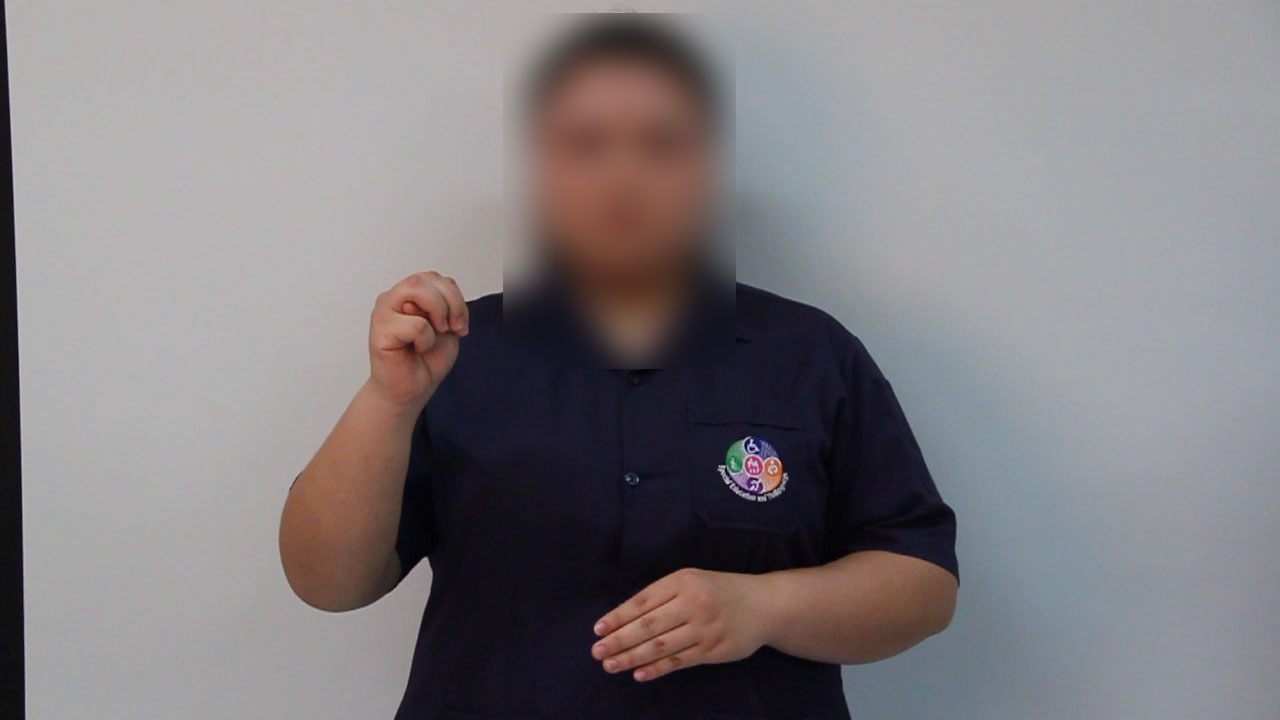mor: (362, 239, 475, 413)
